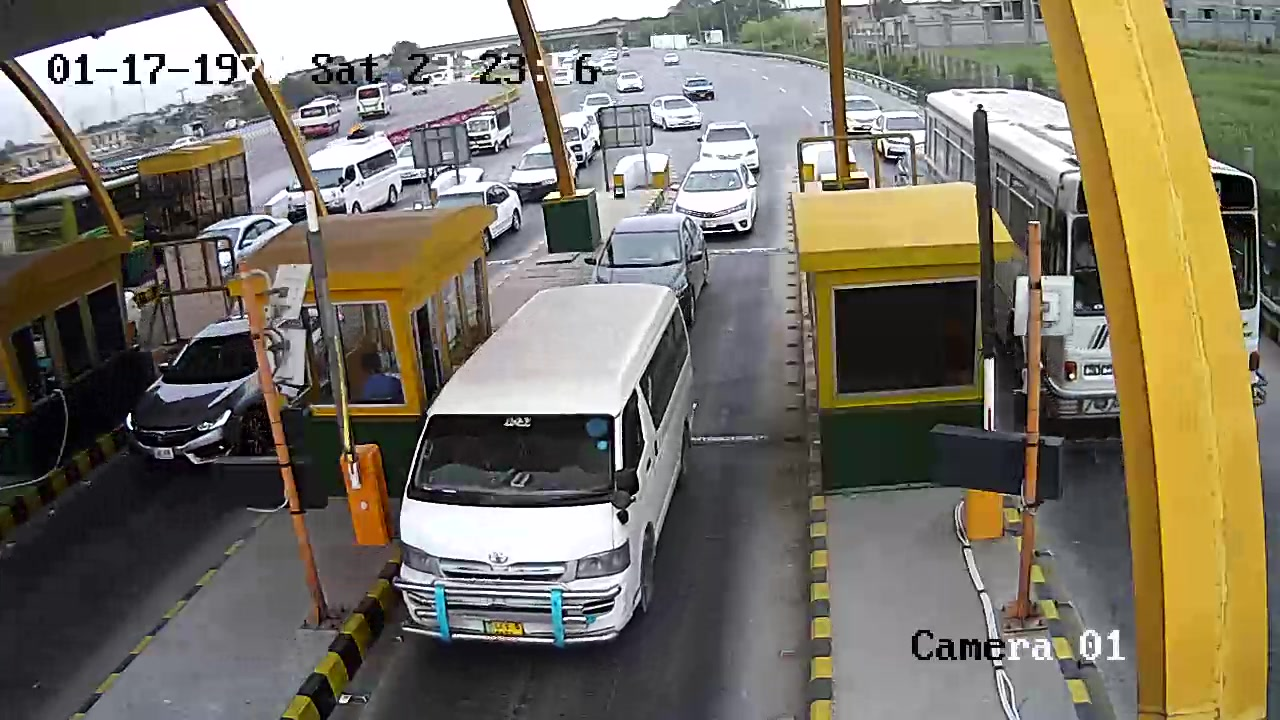F2: (387, 281, 700, 652)
